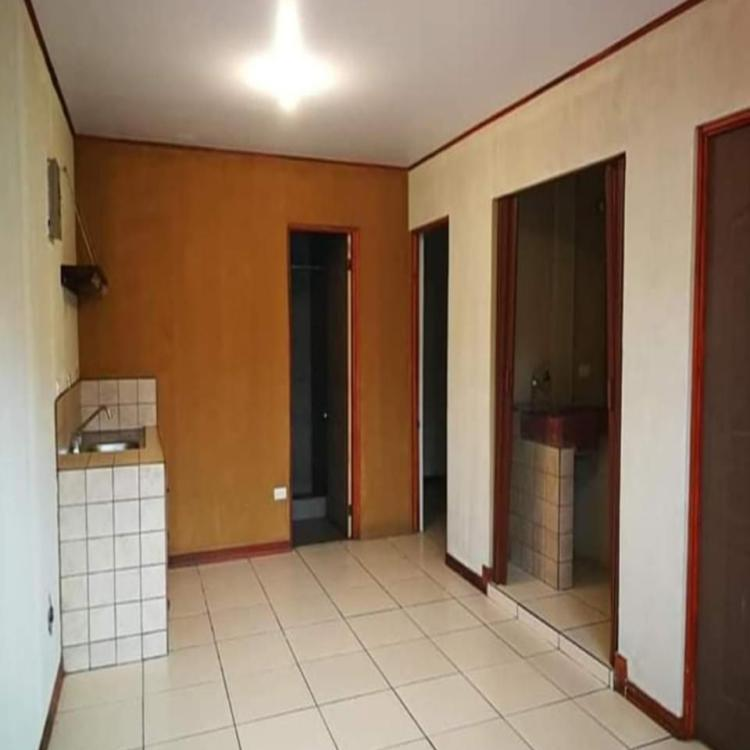OpenDoor: (487, 158, 623, 690), (284, 223, 362, 538), (403, 213, 456, 559)
